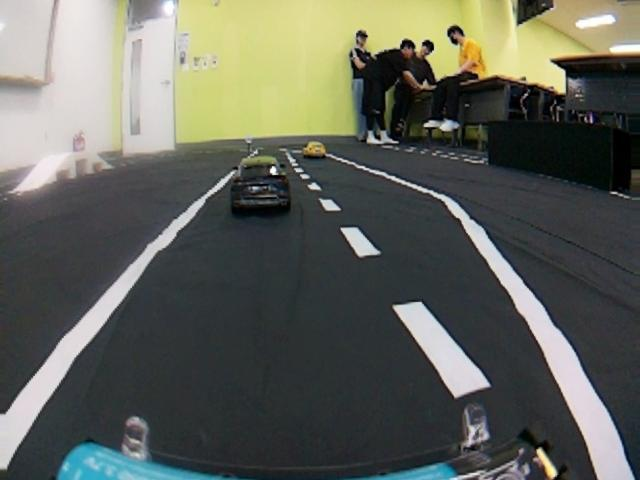car: (223, 148, 294, 221), (299, 136, 334, 166)
straight: (3, 242, 557, 471)
